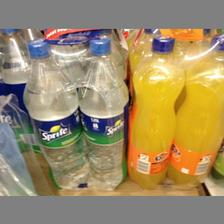Soda: (20, 37, 88, 187), (128, 35, 184, 187), (168, 33, 224, 183), (76, 37, 128, 187)
